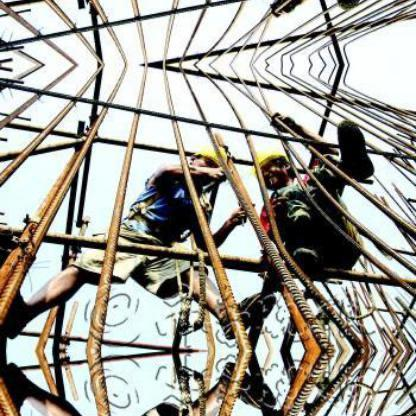helmet: (187, 137, 238, 172), (246, 145, 292, 181)
